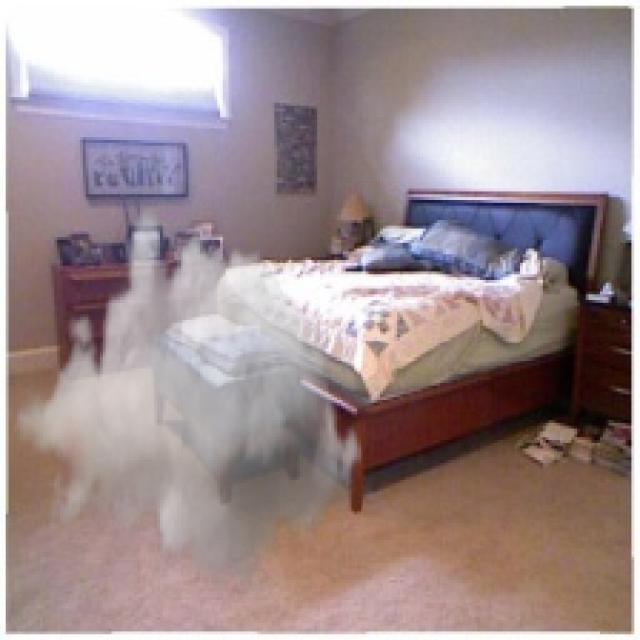smoke: (14, 203, 366, 600)
